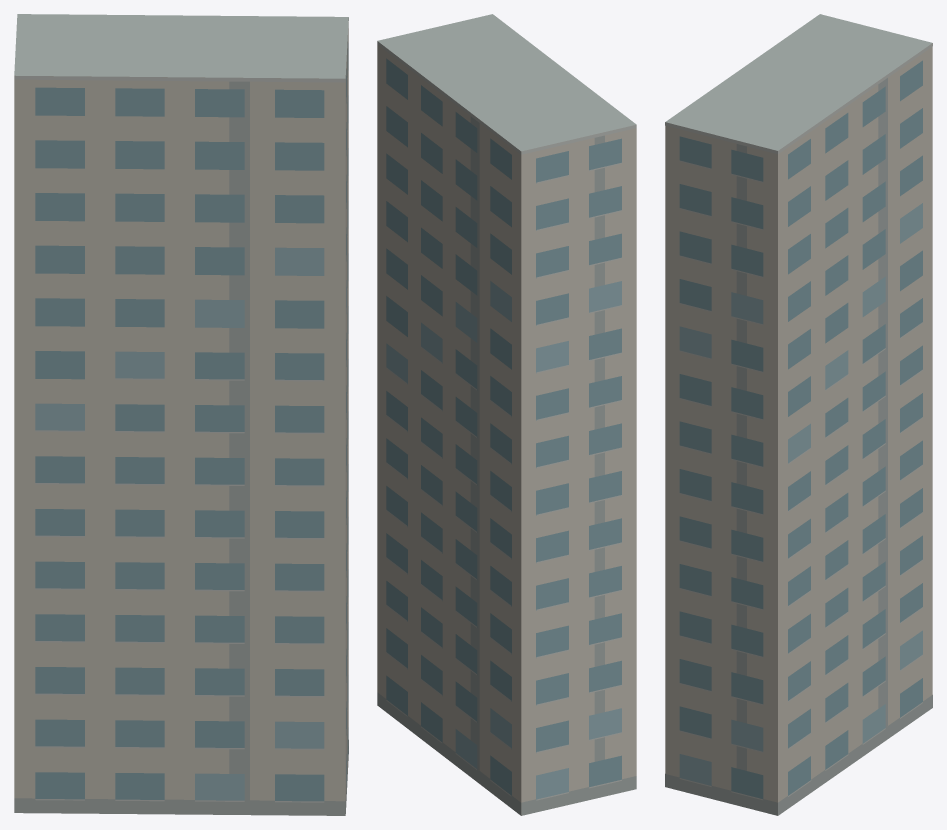
Rendered from residential-b2faef8a-25ab-485f-9e15-5c704826eb1a.glb.
3 views of the same model, side by side, from view 1: azimuth 30°, elevation 25°; view 2: azimuth 150°, elevation 25°; view 3: azimuth 270°, elevation 25° (orthographic). The views are drawn at different scales.
Visible parts, largest first — view 1: residential-b2faef8a-25ab-485f-9e15-5c704826eb1a.tmp; view 2: residential-b2faef8a-25ab-485f-9e15-5c704826eb1a.tmp; view 3: residential-b2faef8a-25ab-485f-9e15-5c704826eb1a.tmp.
Part boxes in pixels (x1,y1,x2,y2): residential-b2faef8a-25ab-485f-9e15-5c704826eb1a.tmp: [14, 14, 348, 815]; residential-b2faef8a-25ab-485f-9e15-5c704826eb1a.tmp: [377, 14, 636, 815]; residential-b2faef8a-25ab-485f-9e15-5c704826eb1a.tmp: [665, 14, 932, 815].
Size of the model in its own units: 20.77 by 47 by 17.15.
